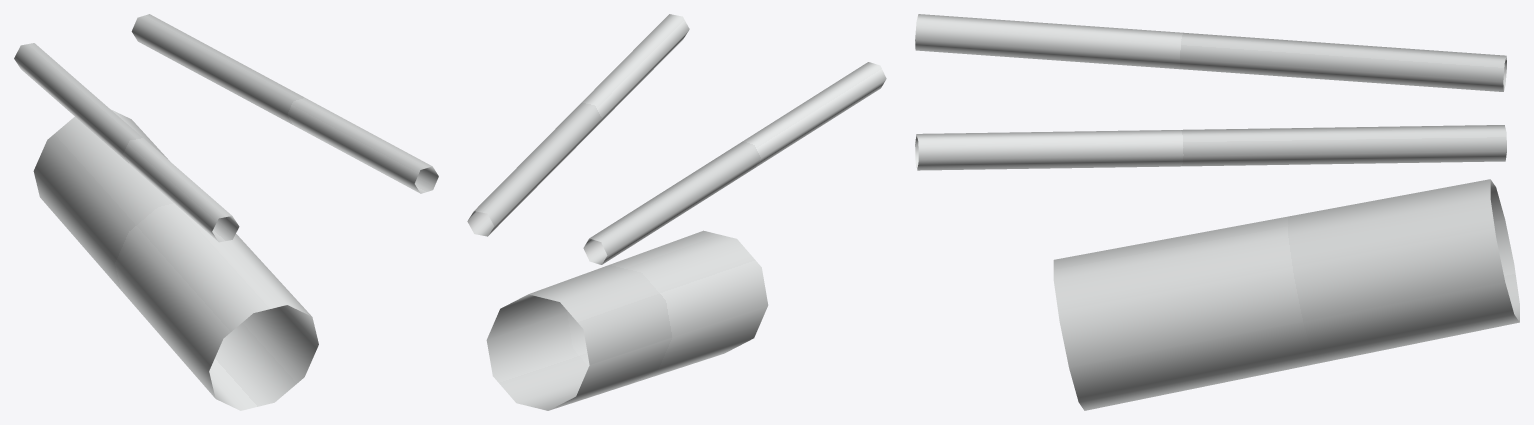
The model's file is nycsignalarm_regular6_c10.obj.
3 views of the same model, side by side, from view 1: azimuth 30°, elevation 25°; view 2: azimuth 150°, elevation 25°; view 3: azimuth 270°, elevation 25° (orthographic). The views are drawn at different scales.
Parts seen in each view (by area): view 1: nycsignalarm_regular6_c10; view 2: nycsignalarm_regular6_c10; view 3: nycsignalarm_regular6_c10.
Boxes of the visible parts, <box> form: nycsignalarm_regular6_c10: <box>14,14,438,410</box>; nycsignalarm_regular6_c10: <box>467,14,886,410</box>; nycsignalarm_regular6_c10: <box>915,14,1519,410</box>.
Size of the model in its own units: 0.5447 by 0.6059 by 1.03.
